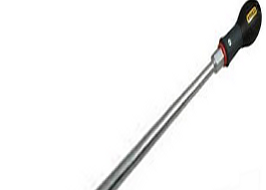Screwdriver: (59, 2, 266, 190)
